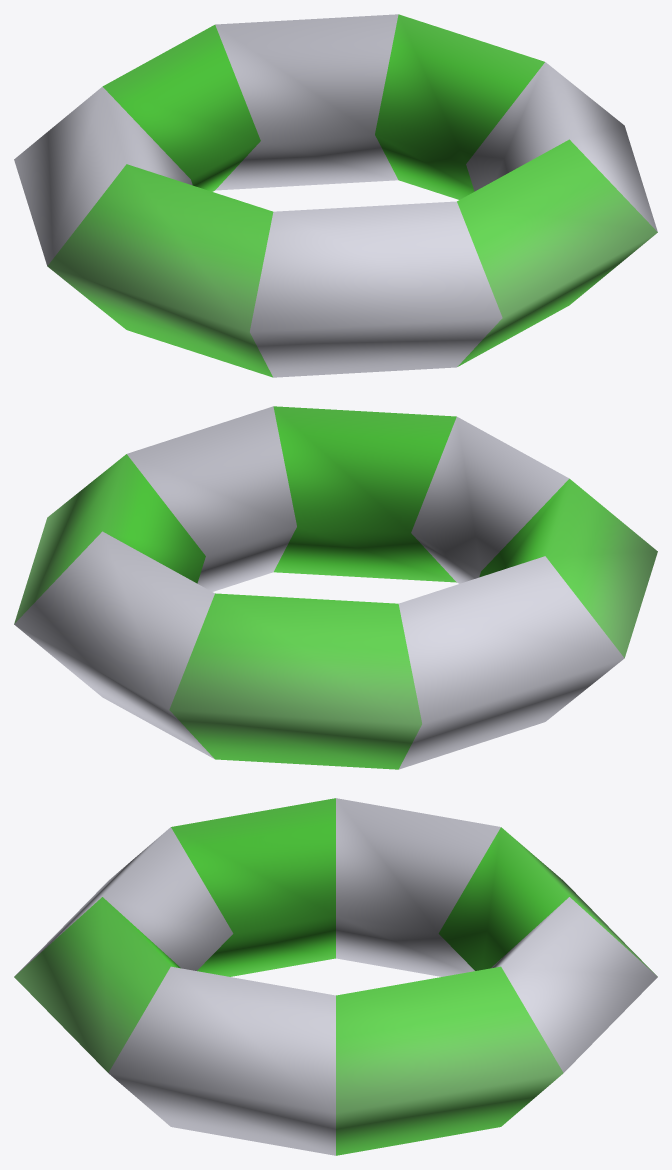
The model's file is RubbeRing_05.fbx.
3 renders of one model, top to bottom at view 1: azimuth 30°, elevation 25°; view 2: azimuth 150°, elevation 25°; view 3: azimuth 270°, elevation 25°, orthographic. The views are drawn at different scales.
Visible parts, largest first — view 1: RubbeRing_05; view 2: RubbeRing_05; view 3: RubbeRing_05.
Boxes of the visible parts, x1,y1,x2,y2 form: RubbeRing_05: [14, 14, 657, 377]; RubbeRing_05: [14, 406, 657, 769]; RubbeRing_05: [14, 798, 657, 1155].
Size of the model in its own units: 0.17 by 0.0467 by 0.17.
